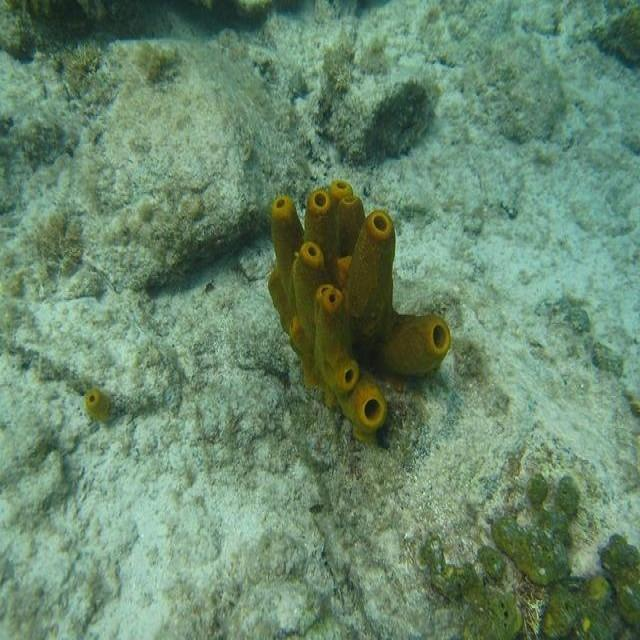reefs: (267, 179, 453, 442)
